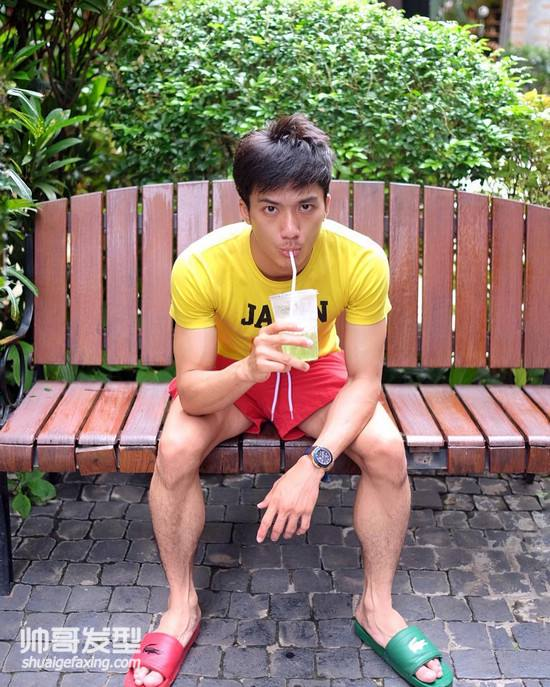person: (155, 135, 476, 668)
